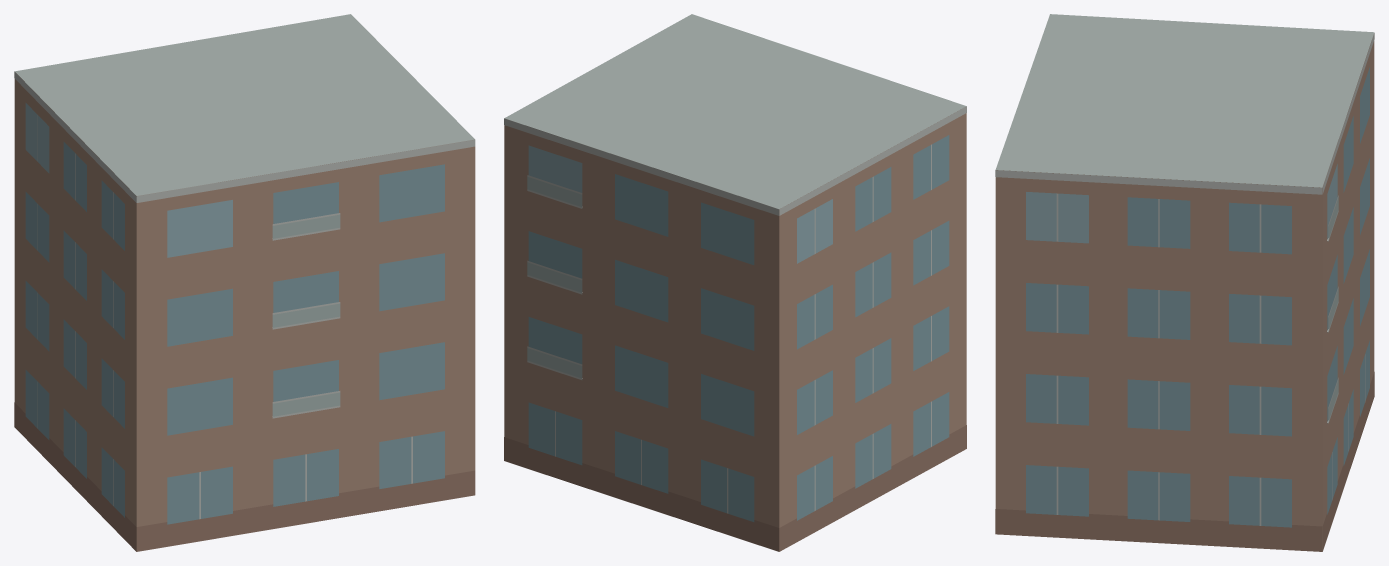
File: survey-upis-32876528.glb
3 views of the same model, side by side, from view 1: azimuth 30°, elevation 25°; view 2: azimuth 150°, elevation 25°; view 3: azimuth 270°, elevation 25° (orthographic). The views are drawn at different scales.
Visible parts, largest first — view 1: survey-upis-32876528.tmp; view 2: survey-upis-32876528.tmp; view 3: survey-upis-32876528.tmp.
Part boxes in pixels (x1,y1,x2,y2): survey-upis-32876528.tmp: [14, 14, 475, 551]; survey-upis-32876528.tmp: [504, 14, 966, 551]; survey-upis-32876528.tmp: [995, 14, 1374, 551].
Size of the model in its own units: 12.68 by 12.4 by 11.7.
